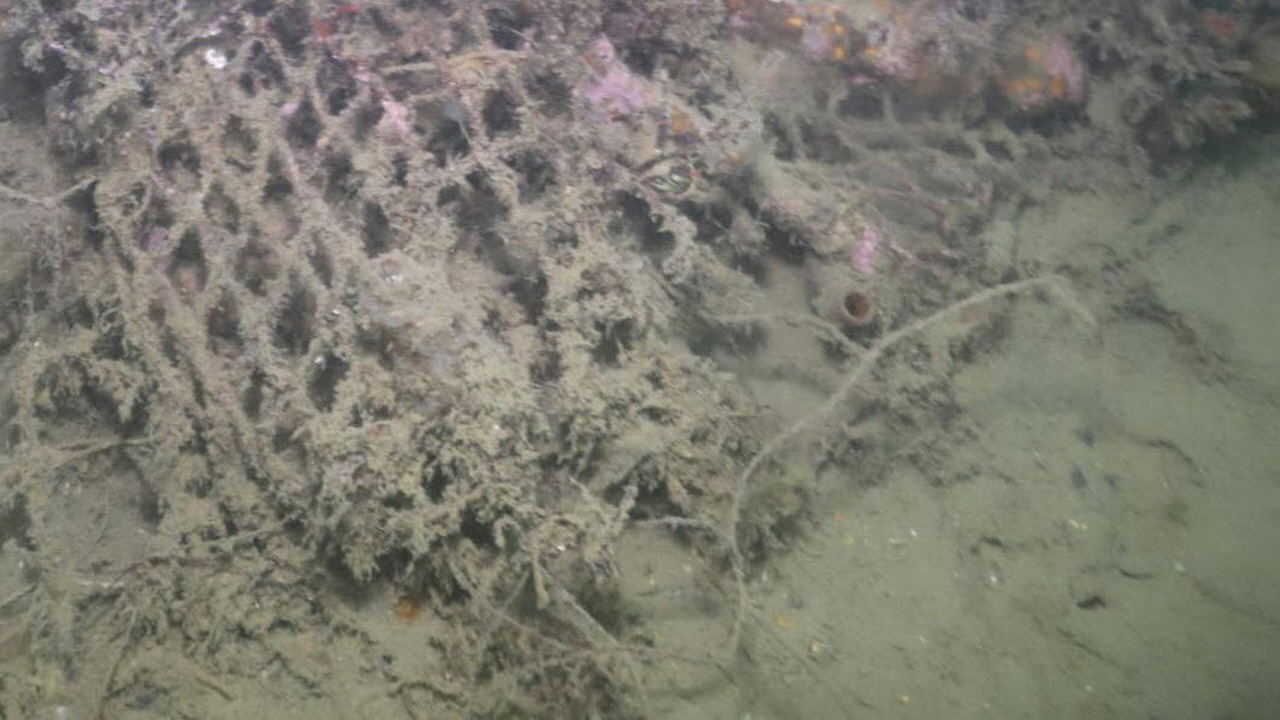fish net: (84, 2, 1023, 562)
